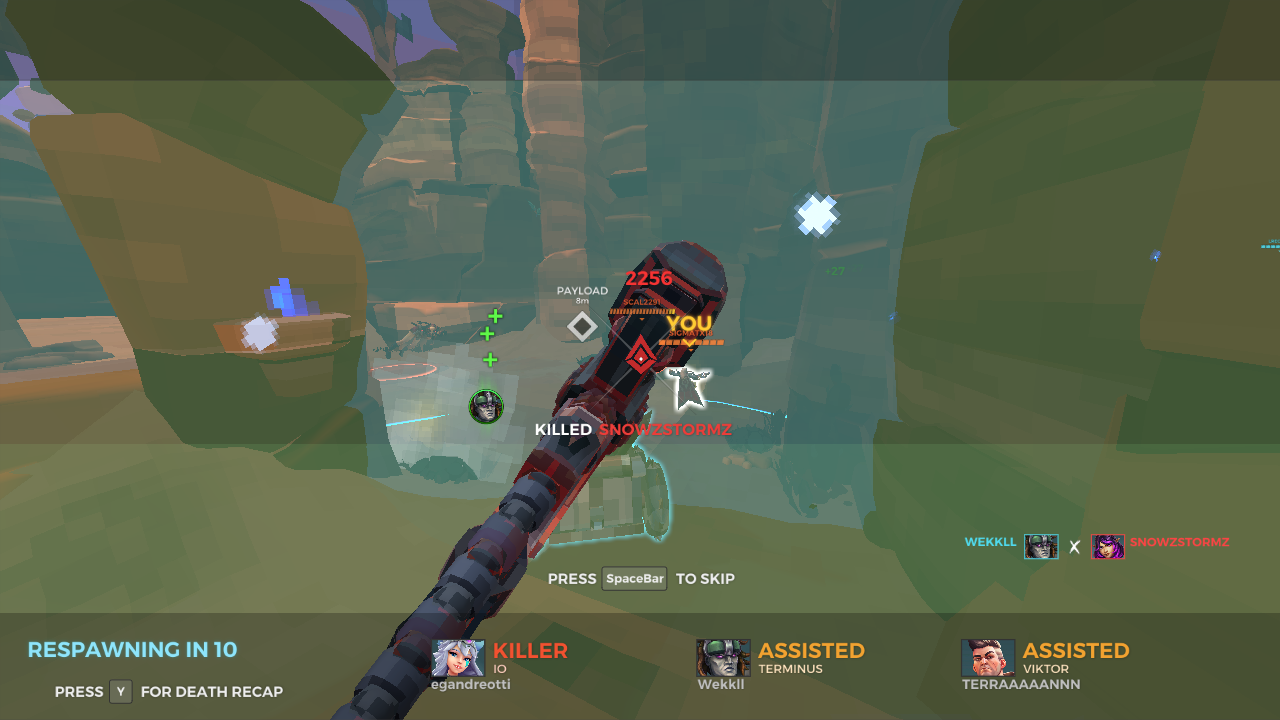model: (671, 361, 714, 418)
